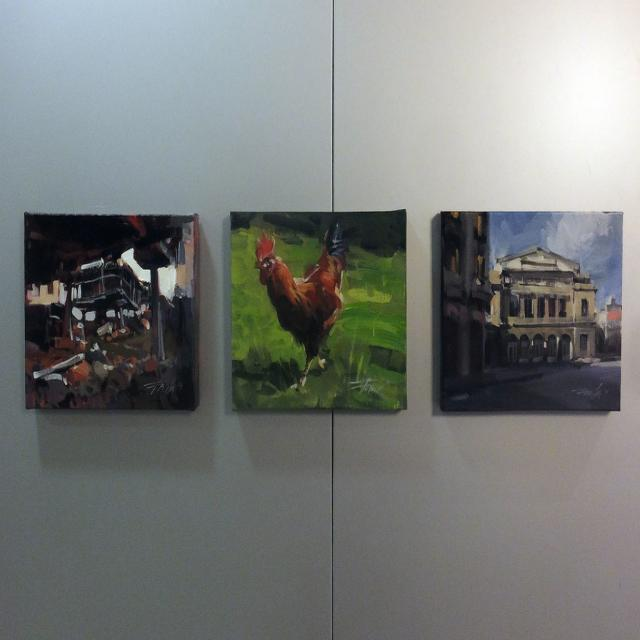Chicken: (254, 228, 351, 373)
